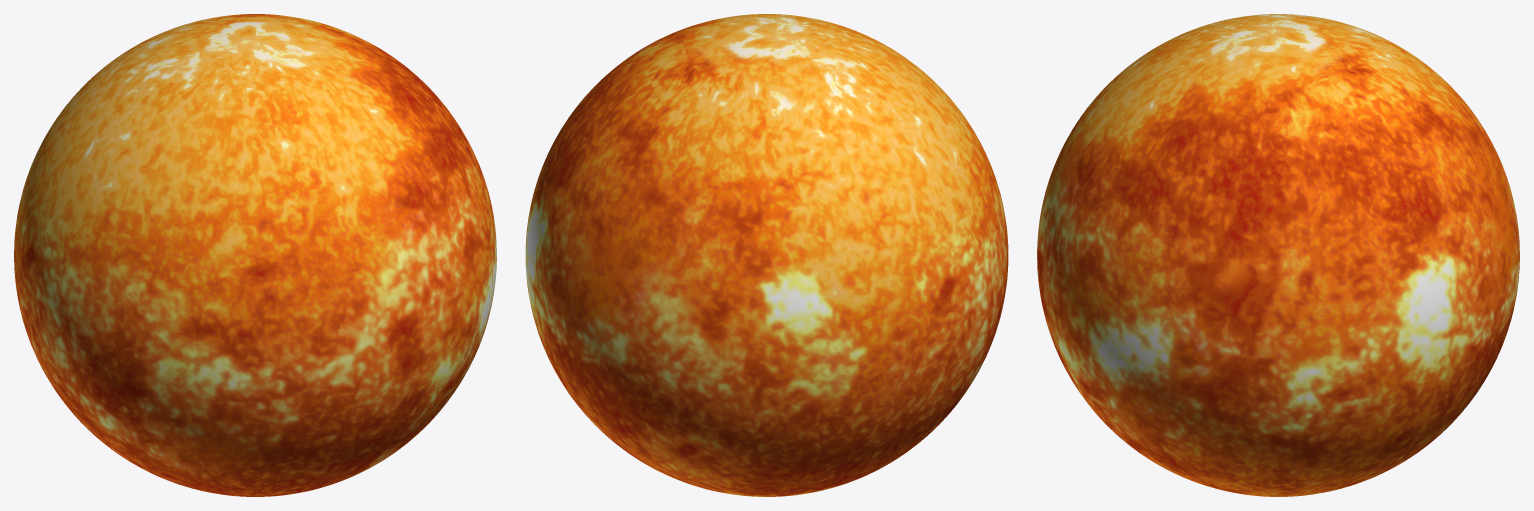
The model's file is Sun.FBX.
3 renders of one model, left to right at view 1: azimuth 30°, elevation 25°; view 2: azimuth 150°, elevation 25°; view 3: azimuth 270°, elevation 25°, orthographic.
Parts seen in each view (by area): view 1: Sun; view 2: Sun; view 3: Sun.
Part boxes in pixels (x1,y1,x2,y2): Sun: (14, 14, 496, 496); Sun: (525, 14, 1008, 496); Sun: (1037, 14, 1519, 496).
Size of the model in its own units: 34771 by 34774 by 34771.
Materials: 1 (1 with a texture image).
